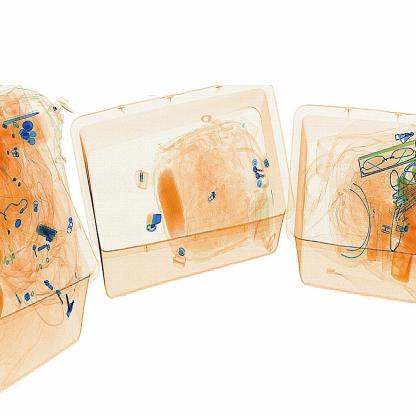wrench: (138, 206, 169, 238)
